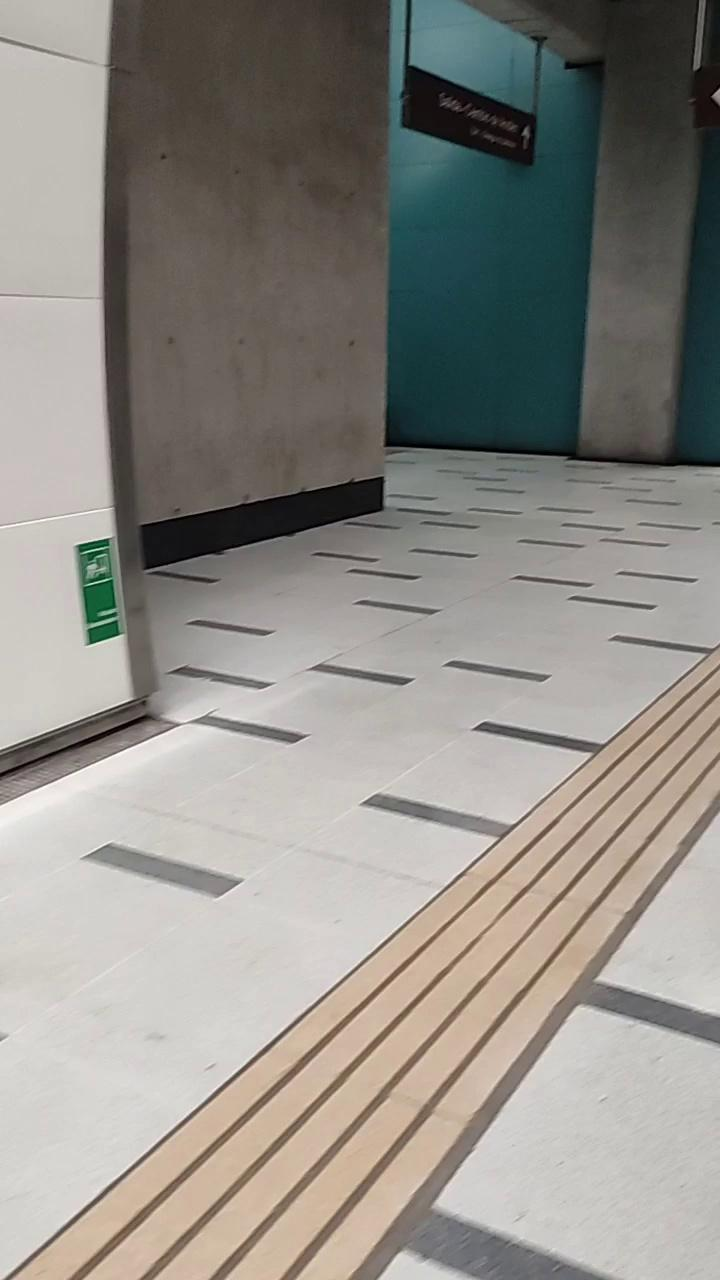up arrow: (518, 120, 538, 155)
